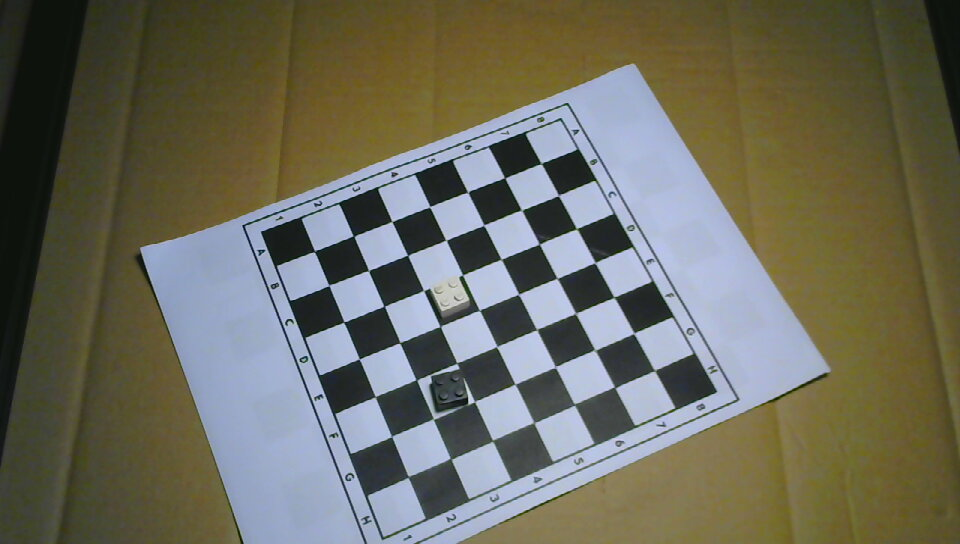bp: (430, 369, 468, 411)
wp: (430, 275, 470, 318)
